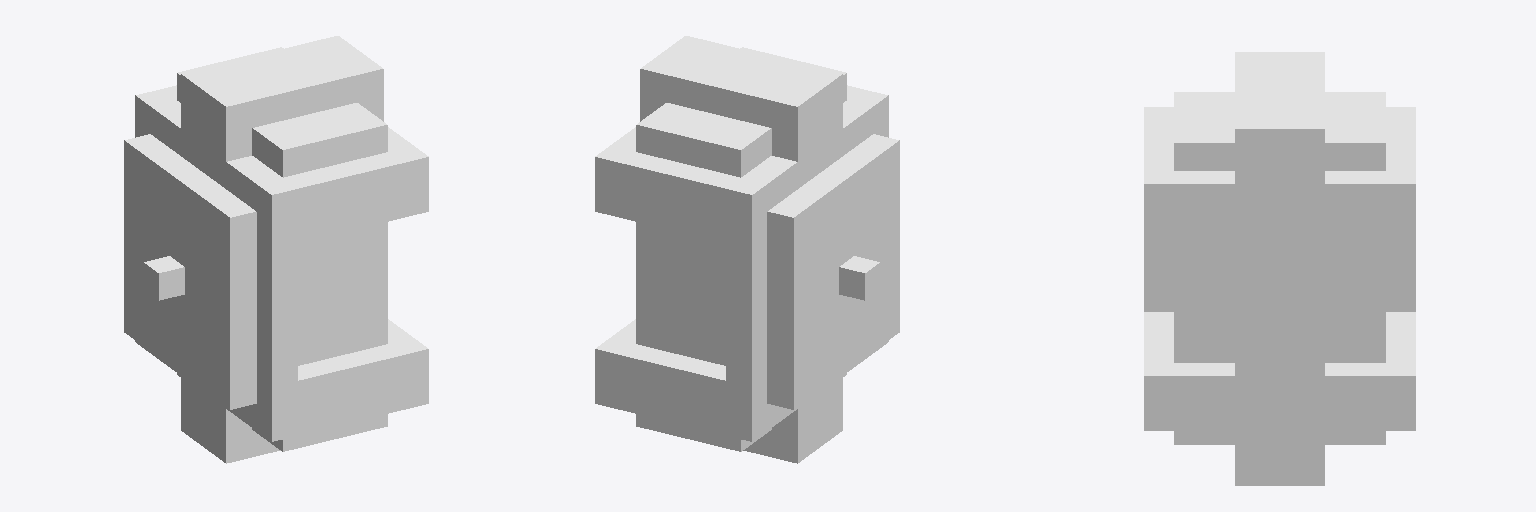
The model's file is WeaponMagazine#3.obj.
3 views of the same model, side by side, from view 1: azimuth 30°, elevation 25°; view 2: azimuth 150°, elevation 25°; view 3: azimuth 270°, elevation 25° (orthographic).
Visible parts, largest first — view 1: object 1; view 2: object 1; view 3: object 1.
Boxes of the visible parts, box(x1,y1,x2,y2) form: object 1: box(124, 36, 428, 463); object 1: box(595, 36, 899, 463); object 1: box(1144, 52, 1415, 485).
Bounding box in the file's own units: 0.8 × 1.3 × 0.9.